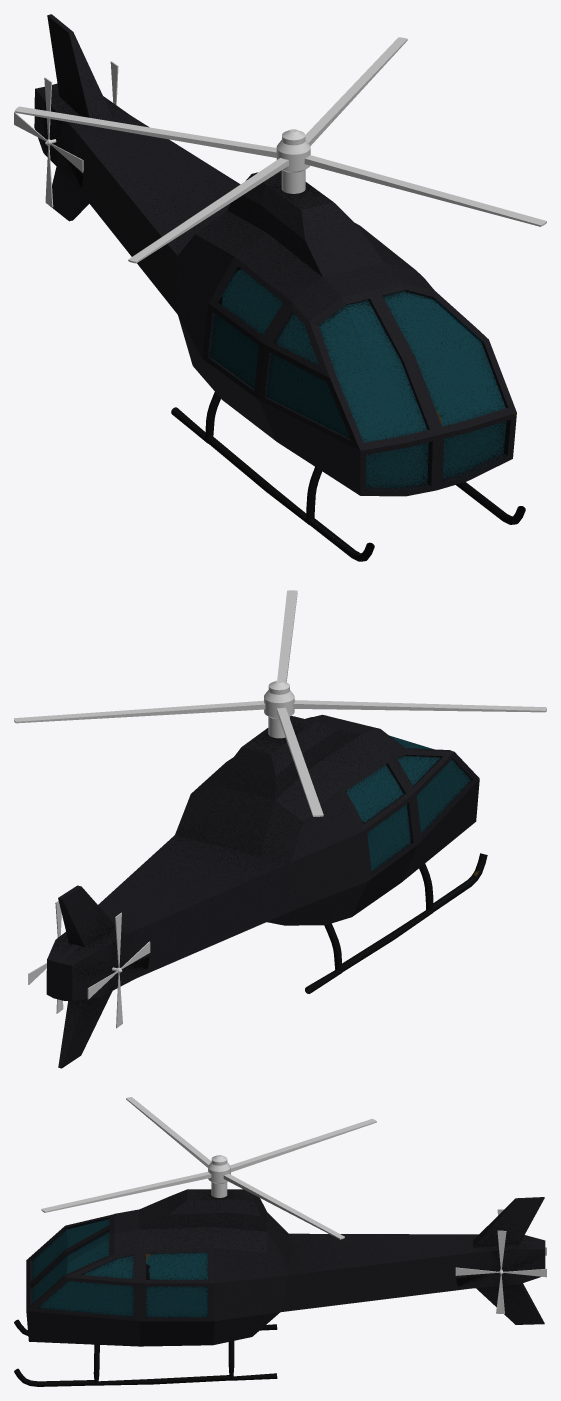
File: anim_000032.obj
The picture shows the model from 3 angles, top to bottom: view 1: azimuth 30°, elevation 25°; view 2: azimuth 150°, elevation 25°; view 3: azimuth 270°, elevation 25°; orthographic projection. The views are drawn at different scales.
Parts seen in each view (by area): view 1: Helicopter.007_Cylinder.008, Helicopter.001_Cylinder.001, Helicopter.004_Cylinder.005; view 2: Helicopter.007_Cylinder.008, Helicopter.001_Cylinder.001, Helicopter.004_Cylinder.005; view 3: Helicopter.007_Cylinder.008, Helicopter.001_Cylinder.001, Helicopter.003_Cylinder.004.
Boxes of the visible parts, x1,y1,x2,y2 form: Helicopter.007_Cylinder.008: (34,14,525,561); Helicopter.001_Cylinder.001: (14,37,546,263); Helicopter.004_Cylinder.005: (14,77,83,207); Helicopter.007_Cylinder.008: (46,714,487,1068); Helicopter.001_Cylinder.001: (14,590,546,816); Helicopter.004_Cylinder.005: (87,912,150,1028); Helicopter.007_Cylinder.008: (14,1189,545,1386); Helicopter.001_Cylinder.001: (41,1097,376,1239); Helicopter.003_Cylinder.004: (455,1230,546,1313).
Bounding box in the file's own units: 4.72 × 3.21 × 7.51.
